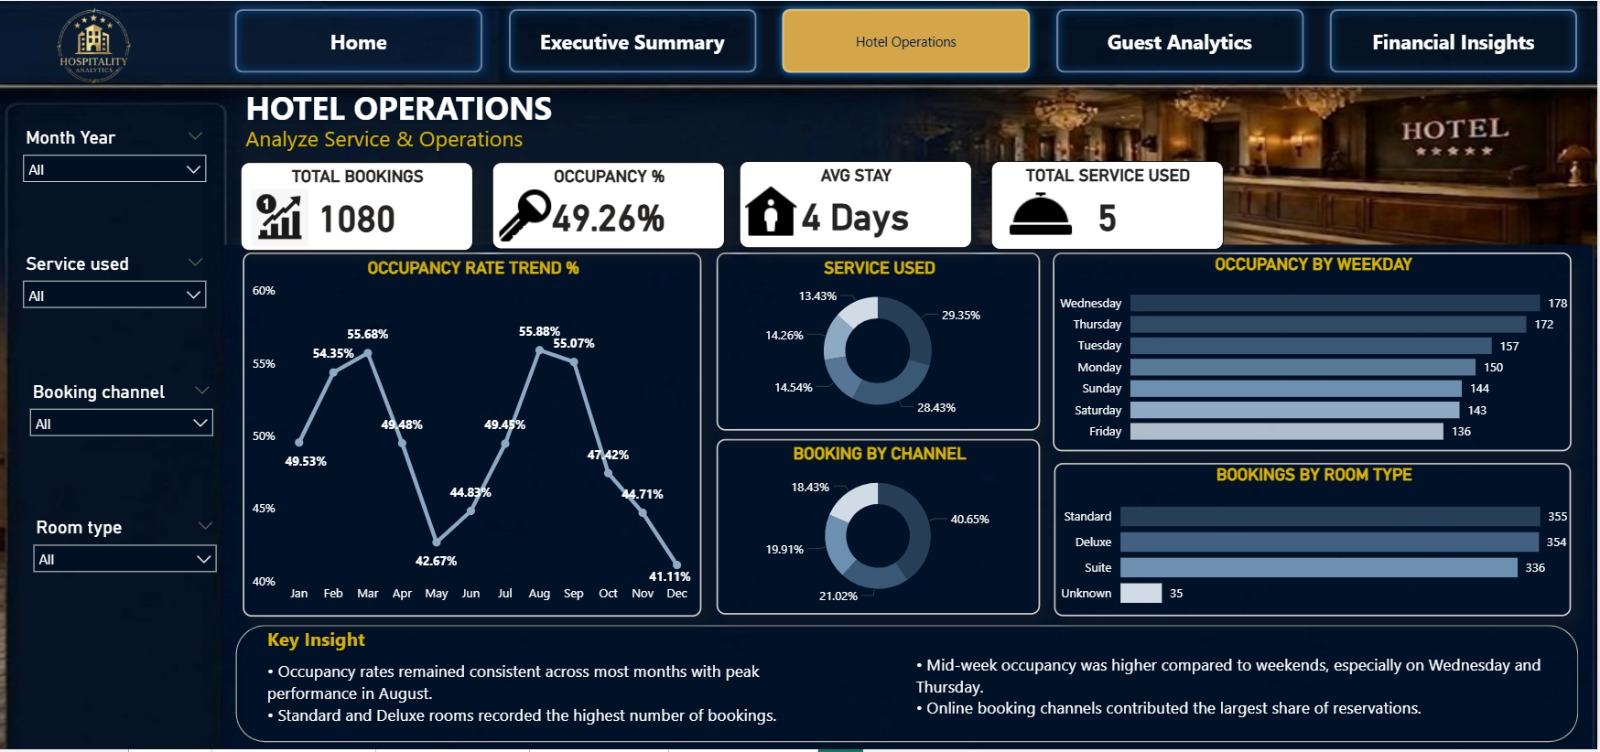

The page's visual inventory and layout, read from the dashboard file:
{"tool":"powerbi","page":{"name":"Hotel Operations","canvas":[1600,750],"ordinal":2},"visuals":[{"type":"image","box":[21.8,0,146.6,90.5],"z":0},{"type":"shape","box":[227.9,616.1,1361.9,135.2],"z":0,"group":"g1"},{"type":"textbox","box":[241.3,79.9,335.8,53.8],"z":1000},{"type":"textbox","box":[263.3,620.2,135.5,35.3],"z":1000,"group":"g1"},{"type":"textbox","box":[241.3,117.7,316.9,45.1],"z":2000},{"type":"card","title":"TOTAL BOOKINGS","fields":{"Values":["CountNonNull(hospitality_final_dataset3.Booking id)"]},"box":[241.3,161.3,232.9,88.9],"z":2500,"group":"g2"},{"type":"pageNavigator","box":[227.6,0,1361.7,80],"z":3000},{"type":"card","title":"OCCUPANCY %","fields":{"Values":["Measure.Occupancy Rate"]},"box":[493.6,161.2,233.1,86.8],"z":3000,"group":"g3"},{"type":"card","title":"AVG STAY","fields":{"Values":["Measure.Average Nights"]},"box":[741.3,159.9,232.6,87.2],"z":4000,"group":"g4"},{"type":"group","id":"g1","title":"Group 6","box":[227.9,616.1,1361.9,135.2],"z":4000},{"type":"clusteredBarChart","title":"BOOKINGS BY ROOM TYPE","fields":{"Y":["CountNonNull(hospitality_final_dataset3.Booking id)"],"Category":["hospitality_final_dataset3.Room type"]},"box":[1055.8,463,518,153.8],"z":5000},{"type":"lineChart","title":"OCCUPANCY RATE TREND %","fields":{"Y":["Measure.Occupancy Rate"],"Category":["hospitality_final_dataset3.Month"]},"box":[244.3,251.7,458.8,364.6],"z":6000},{"type":"donutChart","title":"BOOKING BY CHANNEL","fields":{"Category":["hospitality_final_dataset3.Booking channel"],"Y":["CountNonNull(hospitality_final_dataset3.Booking id)"]},"box":[718,439,324.1,175.9],"z":7000},{"type":"donutChart","title":"SERVICE USED","fields":{"Category":["hospitality_final_dataset3.Service used"],"Y":["CountNonNull(hospitality_final_dataset3.Booking id)"]},"box":[718,251.7,323.7,178.6],"z":8000},{"type":"barChart","title":"OCCUPANCY BY WEEKDAY","fields":{"Category":["hospitality_final_dataset3.Weekday"],"Y":["CountNonNull(hospitality_final_dataset3.Booking id)"]},"box":[1055.2,251.5,518.9,199.1],"z":9000},{"type":"group","id":"g2","title":"Group 1","box":[241.3,161.3,232.9,89.9],"z":10000},{"type":"group","id":"g3","title":"Group 2","box":[493.6,161.2,233.1,86.8],"z":11000},{"type":"group","id":"g4","title":"Group 3","box":[741,159.9,232.8,87.2],"z":12000},{"type":"group","id":"g5","title":"Group 4","box":[992.7,159.9,232.6,88.7],"z":13000},{"type":"card","title":"TOTAL SERVICE USED","fields":{"Values":["Count(hospitality_final_dataset3.Service used)"]},"box":[992.7,159.9,232.6,88.7],"z":13000,"group":"g6"},{"type":"textbox","box":[912.6,648.4,656.3,100.2],"z":13006,"group":"g1"},{"type":"slicer","fields":{"Values":["hospitality.Month Year"]},"box":[14.1,121.4,203.2,77.6],"z":14000},{"type":"image","box":[244.2,183.4,72,67.7],"z":14001,"group":"g2"},{"type":"image","box":[495.5,183.5,62.1,63.5],"z":14002,"group":"g3"},{"type":"image","box":[741,173.6,63.5,73.4],"z":14003,"group":"g4"},{"type":"image","box":[1006.3,172.2,72,74.8],"z":14004,"group":"g6"},{"type":"slicer","fields":{"Values":["hospitality.Service used"]},"box":[14.1,247,203.2,77.6],"z":15000},{"type":"slicer","fields":{"Values":["hospitality.Room type"]},"box":[24,512.4,203.2,77.6],"z":16000},{"type":"slicer","fields":{"Values":["hospitality.Booking channel"]},"box":[21.2,375.4,203.2,77.6],"z":17000},{"type":"textbox","box":[263.9,654.9,592.8,94.6],"z":18000},{"type":"group","id":"g6","title":"Group 5","box":[992.7,159.9,232.6,88.7],"z":18001,"group":"g5"}]}

Visuals, with their boxes in screenshot pixels (x1, y1, x2, y2), scaled from the page's 1600x750 canvas onto the 1600x752 screenshot:
image: [x1=22, y1=0, x2=168, y2=91]
shape: [x1=228, y1=618, x2=1590, y2=751]
textbox: [x1=241, y1=80, x2=577, y2=134]
textbox: [x1=263, y1=622, x2=399, y2=657]
textbox: [x1=241, y1=118, x2=558, y2=163]
"TOTAL BOOKINGS" card: [x1=241, y1=162, x2=474, y2=251]
pageNavigator: [x1=228, y1=0, x2=1589, y2=80]
"OCCUPANCY %" card: [x1=494, y1=162, x2=727, y2=249]
"AVG STAY" card: [x1=741, y1=160, x2=974, y2=248]
"Group 6" group: [x1=228, y1=618, x2=1590, y2=751]
"BOOKINGS BY ROOM TYPE" clusteredBarChart: [x1=1056, y1=464, x2=1574, y2=618]
"OCCUPANCY RATE TREND %" lineChart: [x1=244, y1=252, x2=703, y2=618]
"BOOKING BY CHANNEL" donutChart: [x1=718, y1=440, x2=1042, y2=617]
"SERVICE USED" donutChart: [x1=718, y1=252, x2=1042, y2=431]
"OCCUPANCY BY WEEKDAY" barChart: [x1=1055, y1=252, x2=1574, y2=452]
"Group 1" group: [x1=241, y1=162, x2=474, y2=252]
"Group 2" group: [x1=494, y1=162, x2=727, y2=249]
"Group 3" group: [x1=741, y1=160, x2=974, y2=248]
"Group 4" group: [x1=993, y1=160, x2=1225, y2=249]
"TOTAL SERVICE USED" card: [x1=993, y1=160, x2=1225, y2=249]
textbox: [x1=913, y1=650, x2=1569, y2=751]
slicer - hospitality.Month Year: [x1=14, y1=122, x2=217, y2=200]
image: [x1=244, y1=184, x2=316, y2=252]
image: [x1=496, y1=184, x2=558, y2=248]
image: [x1=741, y1=174, x2=804, y2=248]
image: [x1=1006, y1=173, x2=1078, y2=248]
slicer - hospitality.Service used: [x1=14, y1=248, x2=217, y2=325]
slicer - hospitality.Room type: [x1=24, y1=514, x2=227, y2=592]
slicer - hospitality.Booking channel: [x1=21, y1=376, x2=224, y2=454]
textbox: [x1=264, y1=657, x2=857, y2=751]
"Group 5" group: [x1=993, y1=160, x2=1225, y2=249]
